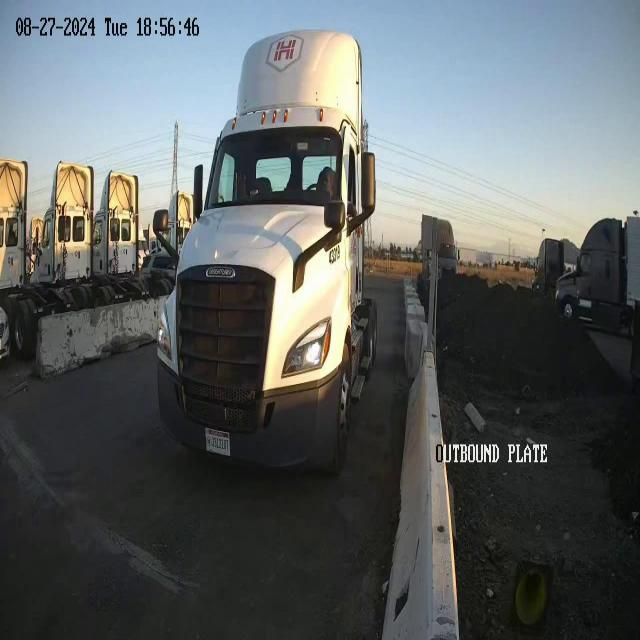BOBTAIL: (151, 28, 380, 478)
